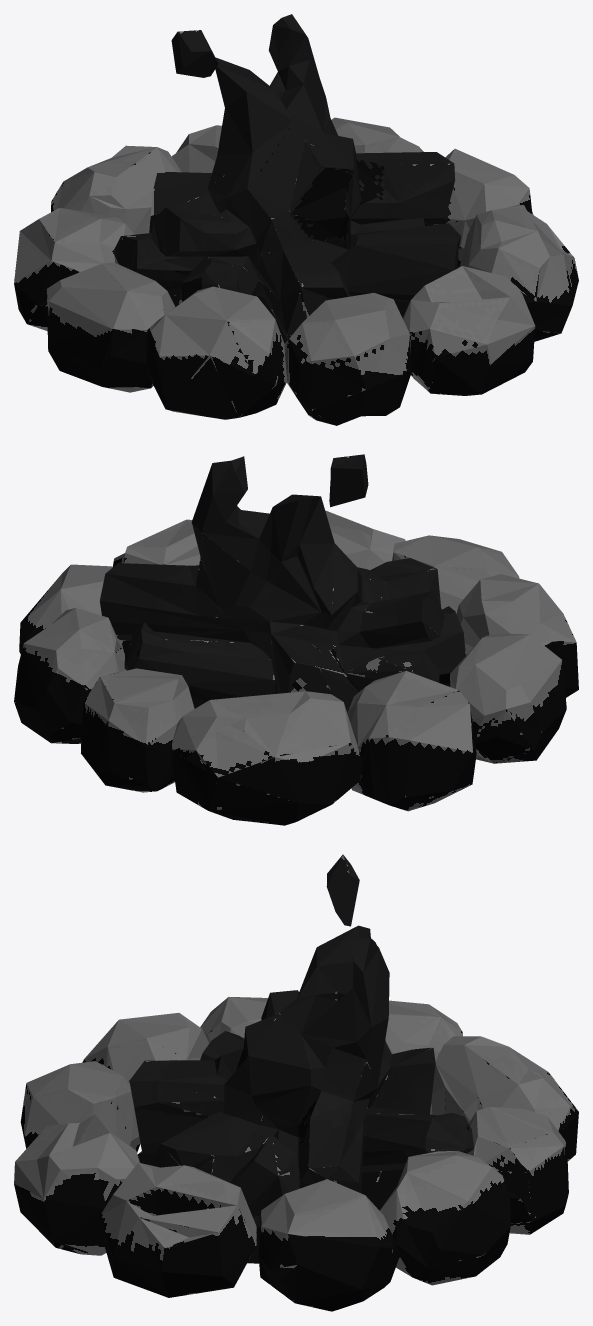
3 renders of one model, top to bottom at view 1: azimuth 30°, elevation 25°; view 2: azimuth 150°, elevation 25°; view 3: azimuth 270°, elevation 25°, orthographic.
Parts seen in each view (by area): view 1: OBJ12a; view 2: OBJ12a; view 3: OBJ12a.
Boxes of the visible parts, x1,y1,x2,y2 form: OBJ12a: [14, 14, 578, 425]; OBJ12a: [14, 454, 578, 825]; OBJ12a: [14, 854, 578, 1311].
Size of the model in its own units: 0.3431 by 0.2052 by 0.3427.
1 material, 1 textured.
